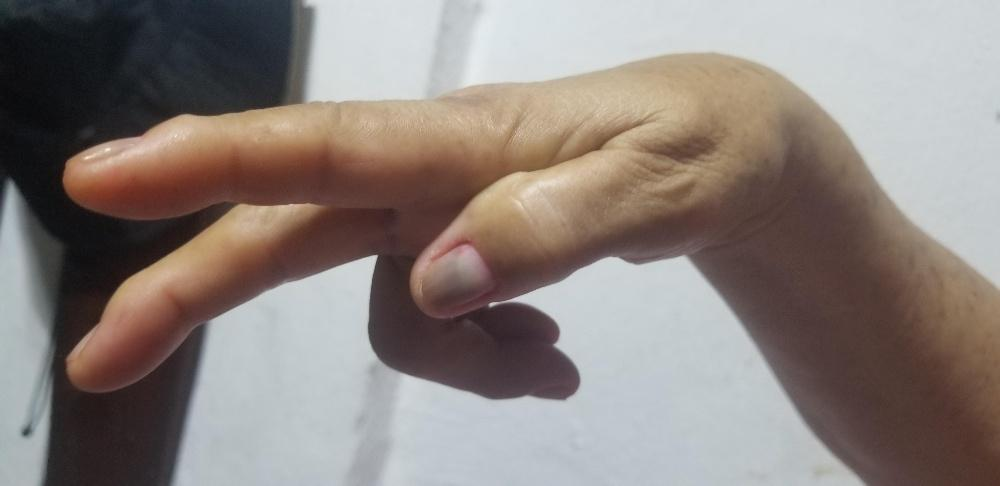p: (56, 47, 816, 400)
